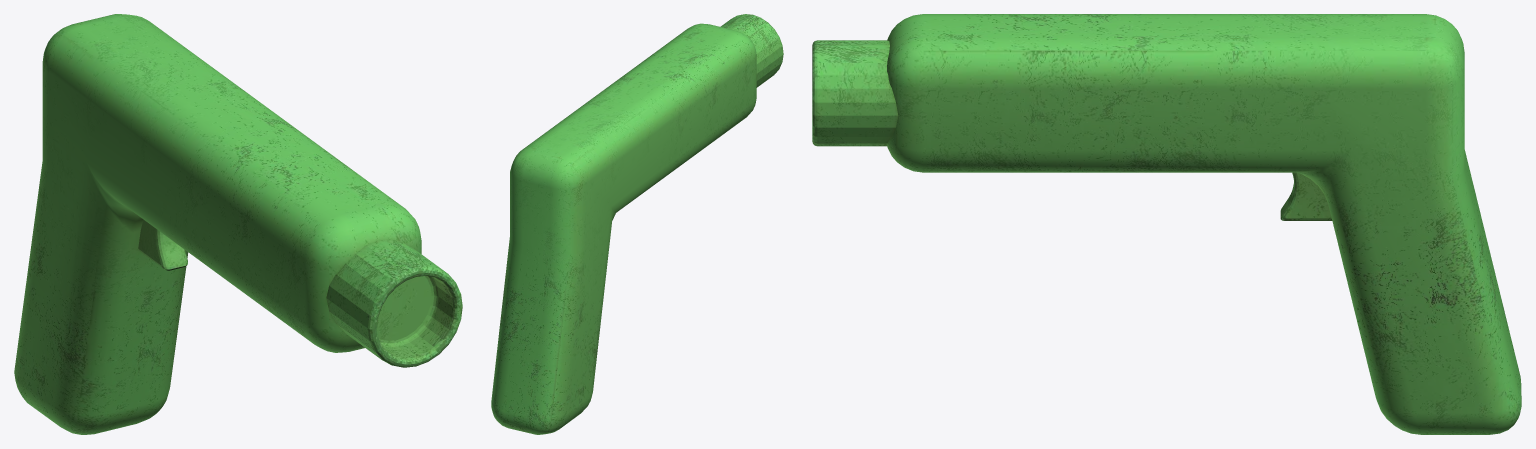
Rendered from zapper.glb.
3 views of the same model, side by side, from view 1: azimuth 30°, elevation 25°; view 2: azimuth 150°, elevation 25°; view 3: azimuth 270°, elevation 25° (orthographic). The views are drawn at different scales.
Parts seen in each view (by area): view 1: Zapper, Muzzle, Trigger; view 2: Zapper, Muzzle; view 3: Zapper, Muzzle, Trigger.
Part boxes in pixels (x1,y1,x2,y2): Zapper: (14, 14, 421, 434); Muzzle: (326, 239, 462, 367); Trigger: (138, 220, 187, 270); Zapper: (491, 23, 756, 434); Muzzle: (720, 14, 783, 87); Zapper: (887, 14, 1521, 434); Muzzle: (812, 40, 898, 146); Trigger: (1280, 172, 1332, 220).
Bounding box in the file's own units: 0.026 × 0.0899 × 0.1468.
Materials: 1 (1 with a texture image).
